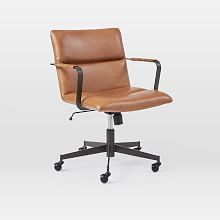chairs: (48, 27, 173, 185)
